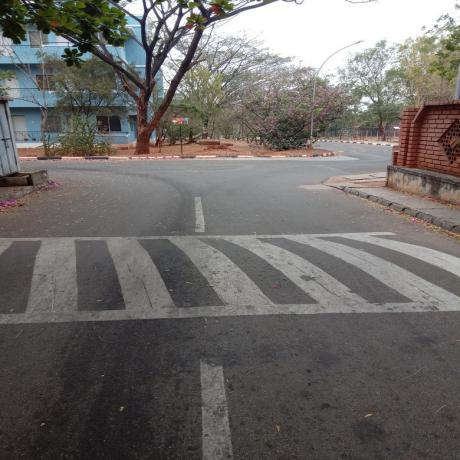Speed Bump: (0, 234, 459, 324)
